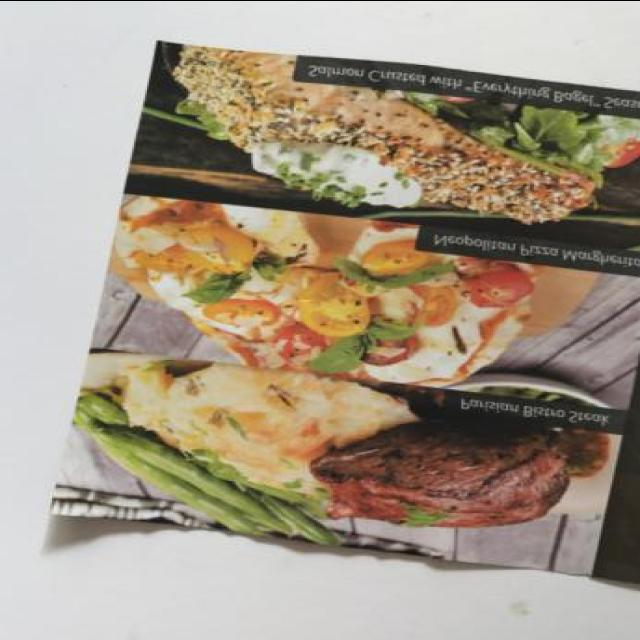kertas: (46, 41, 640, 589)
